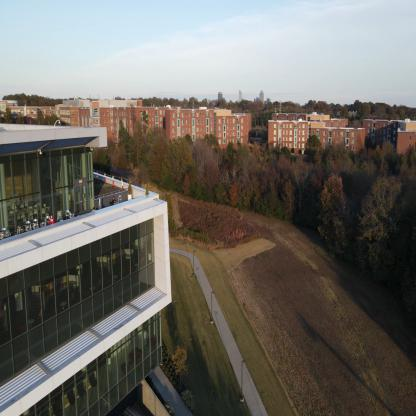Hunt Library: (0, 112, 174, 416)
Wolf Ridge: (264, 92, 369, 193), (148, 98, 258, 182), (373, 112, 415, 176)
